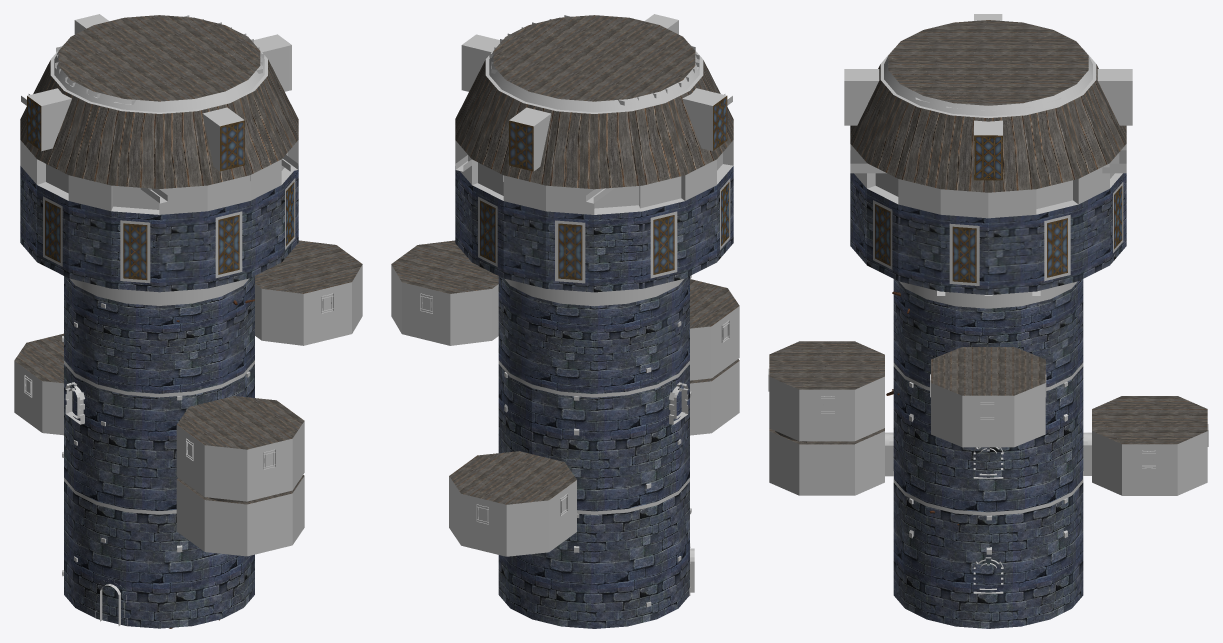
File: TowerInterior.FBX
3 views of the same model, side by side, from view 1: azimuth 30°, elevation 25°; view 2: azimuth 150°, elevation 25°; view 3: azimuth 270°, elevation 25° (orthographic).
Parts seen in each view (by area): view 1: Object09; view 2: Object09; view 3: Object09.
Part boxes in pixels (<box>): Object09: <box>14,14,362,628</box>; Object09: <box>391,14,739,628</box>; Object09: <box>768,14,1208,628</box>.
Bounding box in the file's own units: 286 × 470 × 348.
